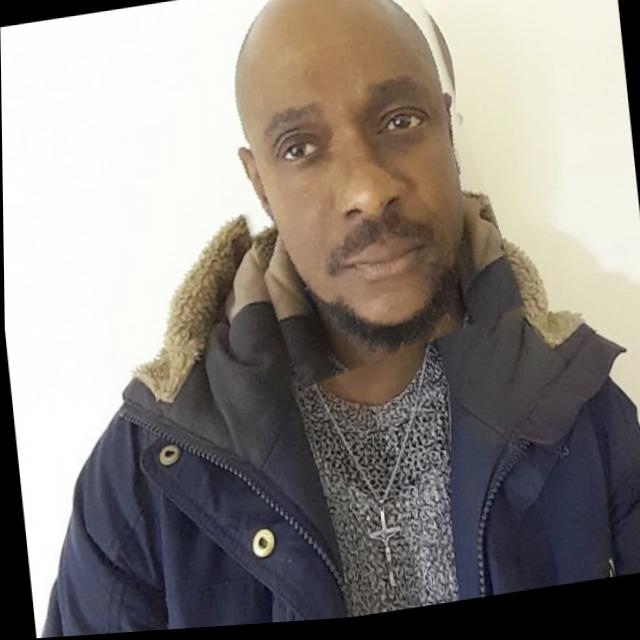sad: (197, 0, 507, 394)
